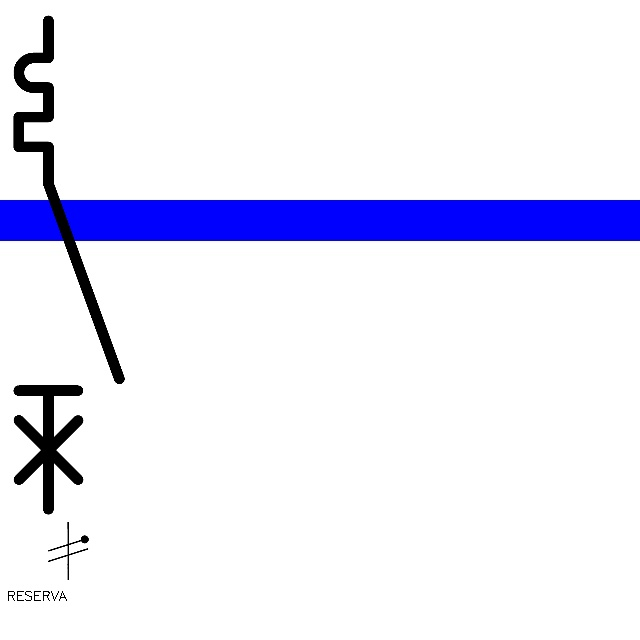interruptor_termomagnetico: (6, 8, 132, 522)
